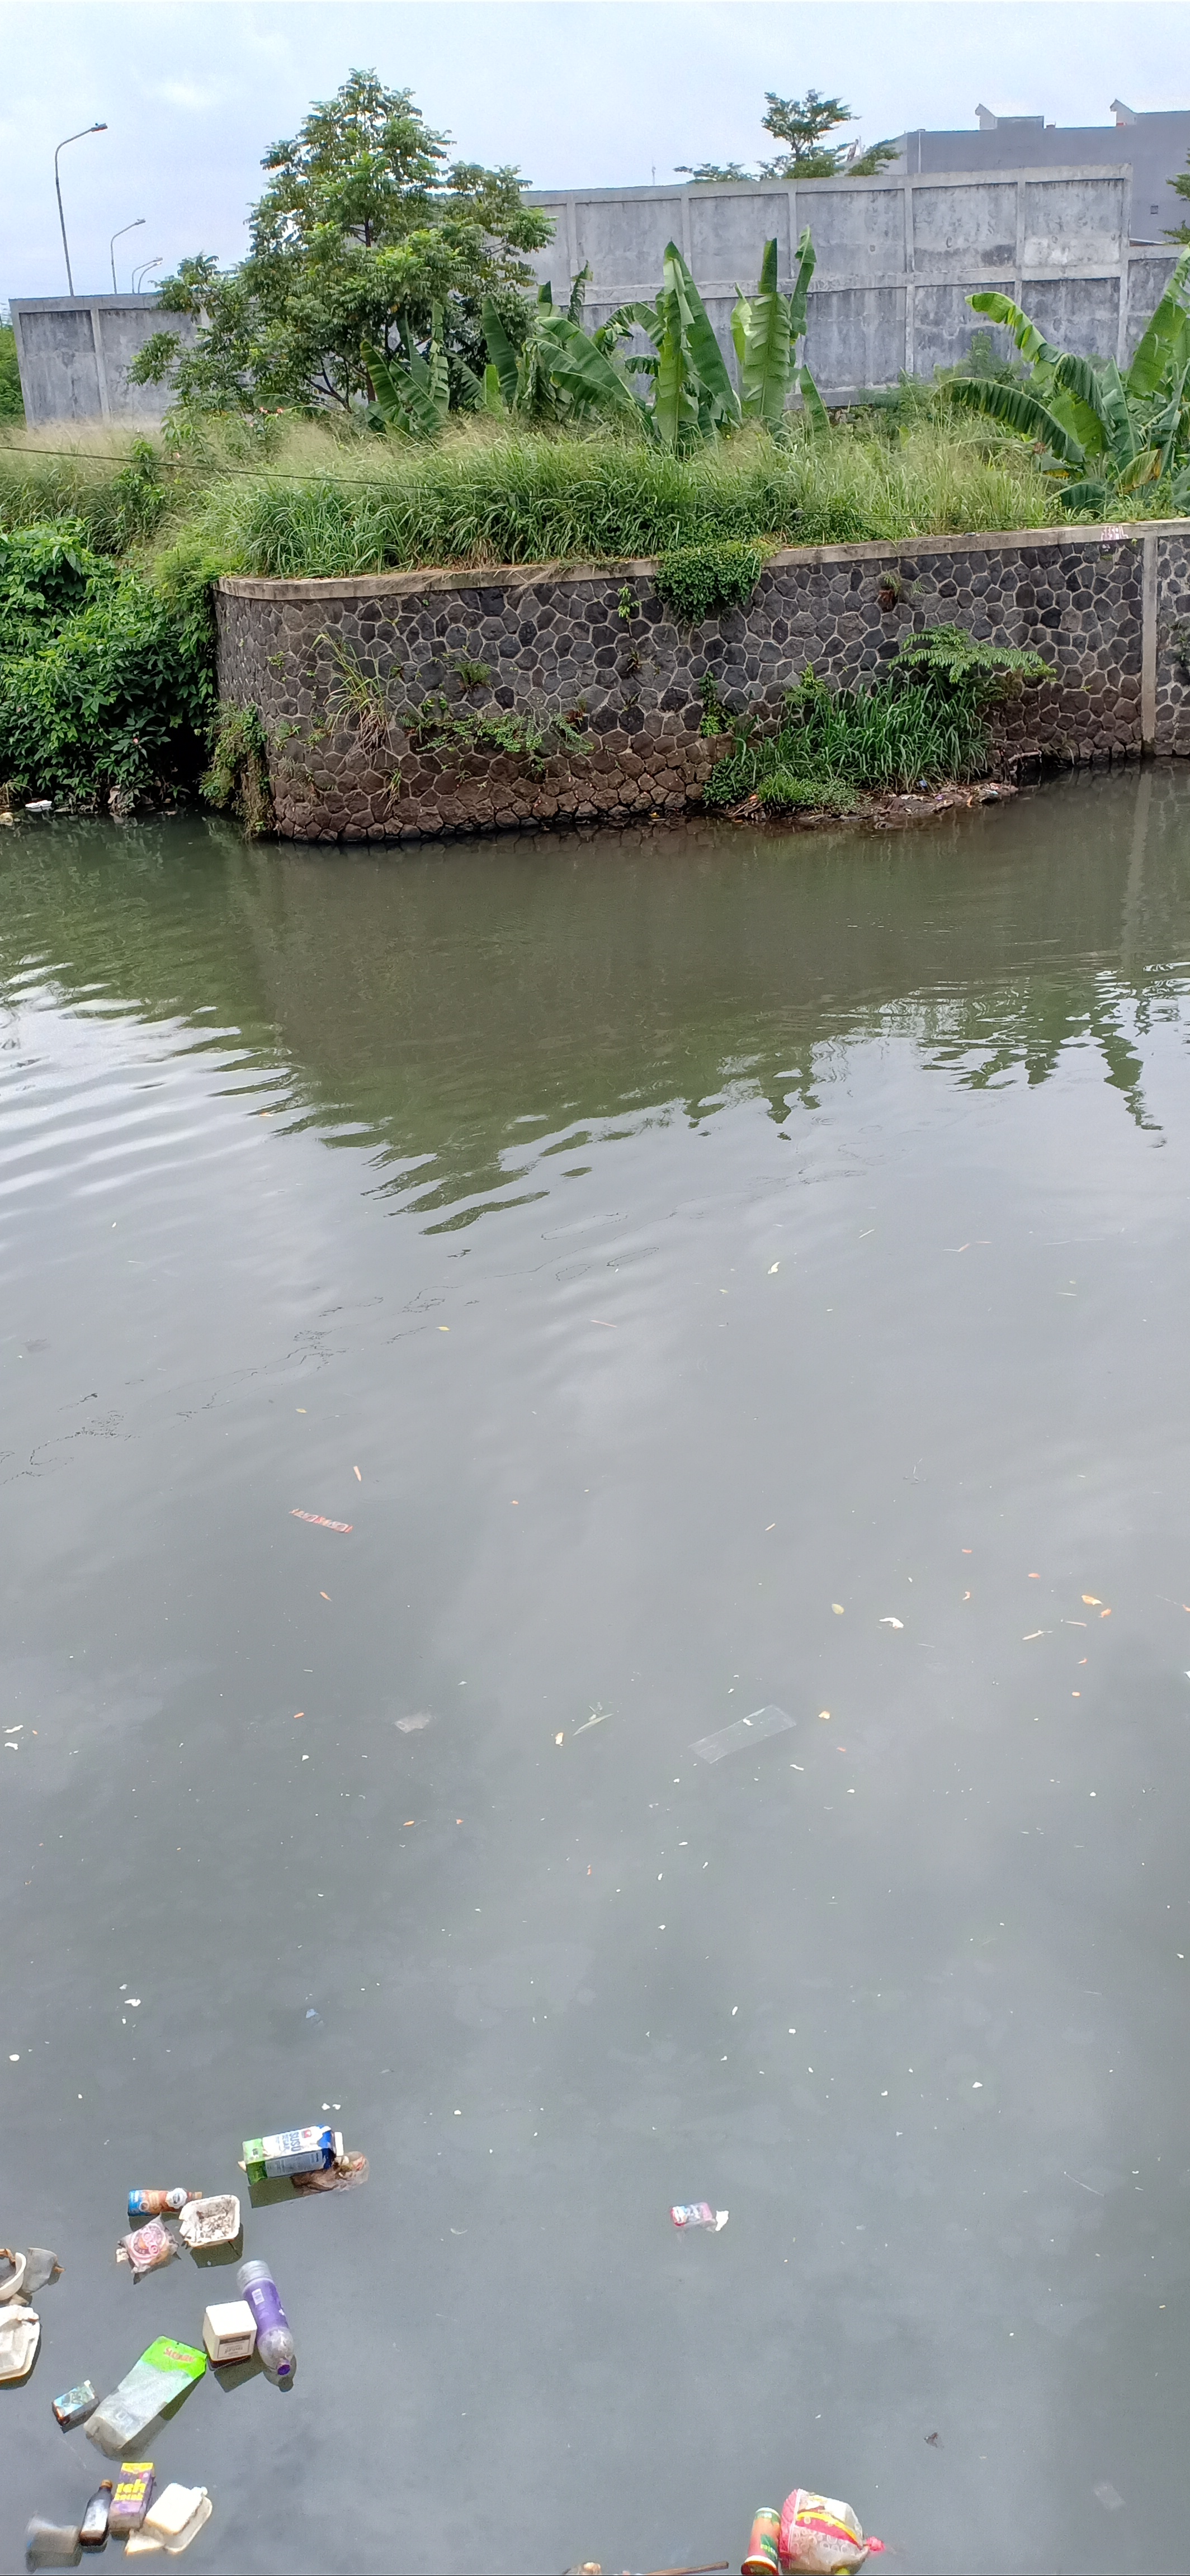Plastic Bottle: (237, 2259, 294, 2376), (127, 2187, 204, 2218), (79, 2479, 113, 2546), (25, 800, 53, 808), (649, 812, 661, 818)
